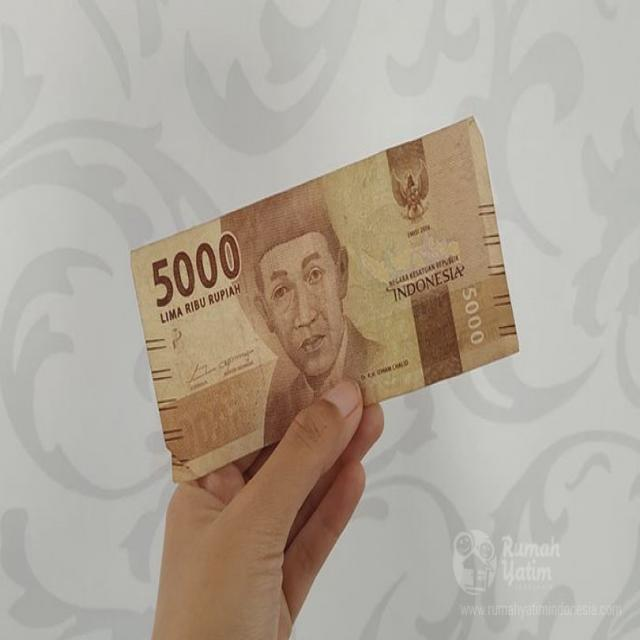lima ribu rupiah: (122, 138, 550, 462), (261, 214, 349, 373), (146, 220, 244, 318)
